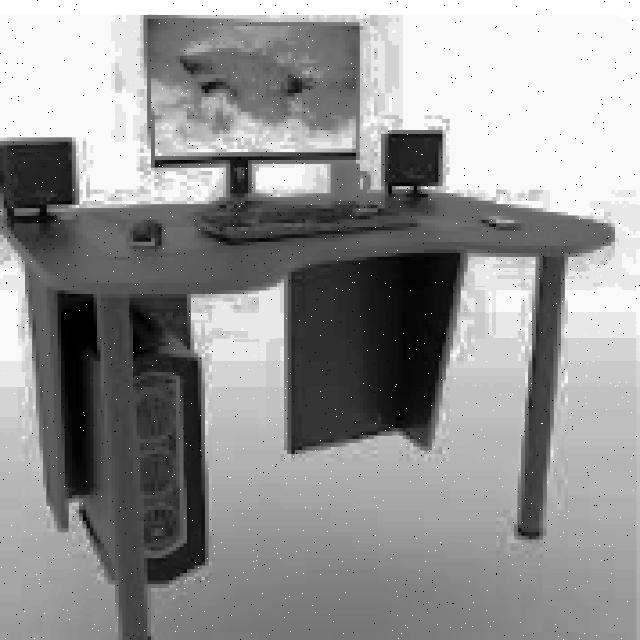table: (0, 186, 615, 640)
